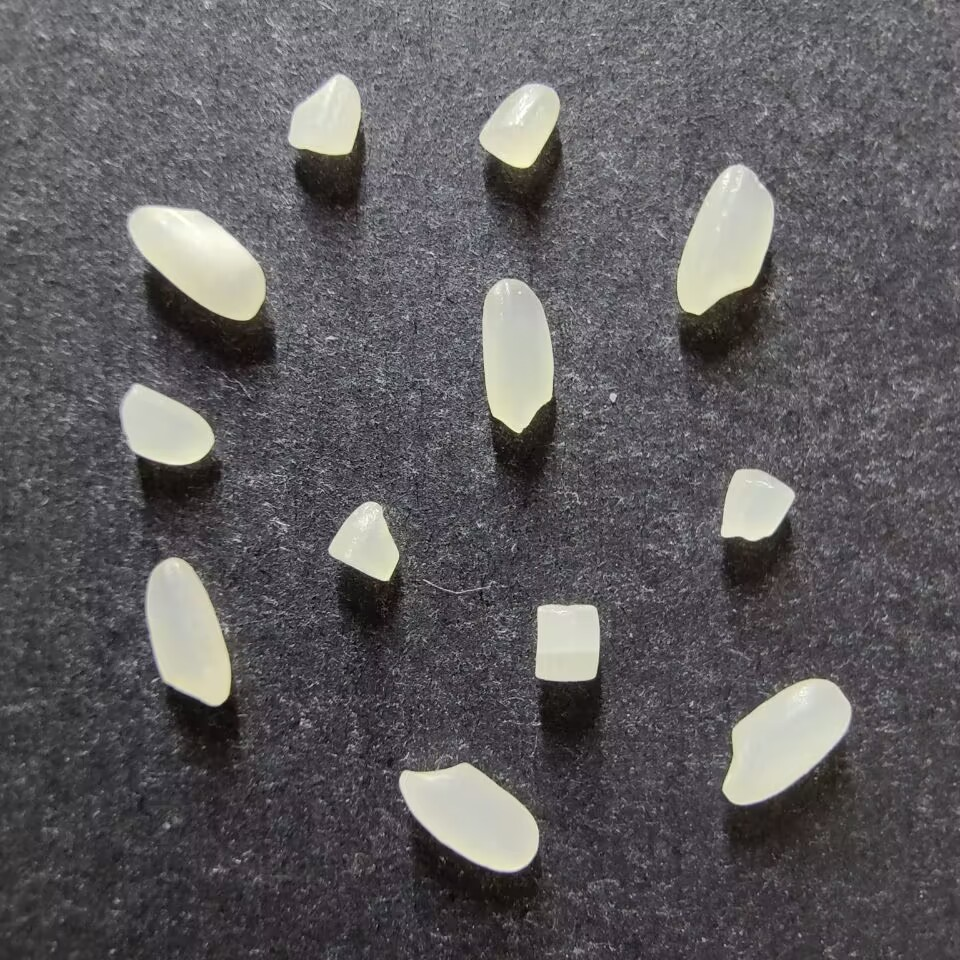broken: (119, 382, 215, 466), (477, 83, 560, 169), (287, 73, 360, 156), (327, 501, 400, 582), (719, 468, 796, 541), (532, 603, 602, 682)
rice: (720, 677, 851, 805), (127, 204, 265, 321), (397, 762, 540, 873), (675, 163, 775, 315), (144, 557, 231, 708), (480, 278, 554, 433)
